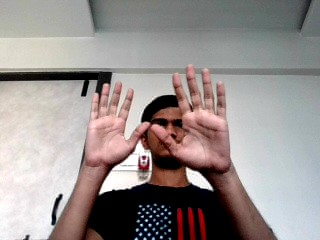hand: (152, 64, 231, 173), (85, 80, 151, 168)
